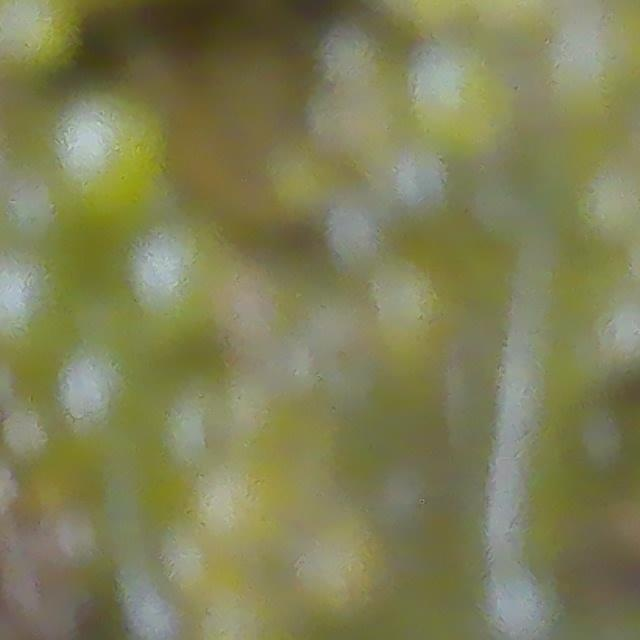SeaGrape: (44, 93, 179, 228), (123, 219, 232, 344), (0, 256, 64, 353), (481, 567, 563, 640), (0, 171, 74, 248), (322, 195, 384, 264)
